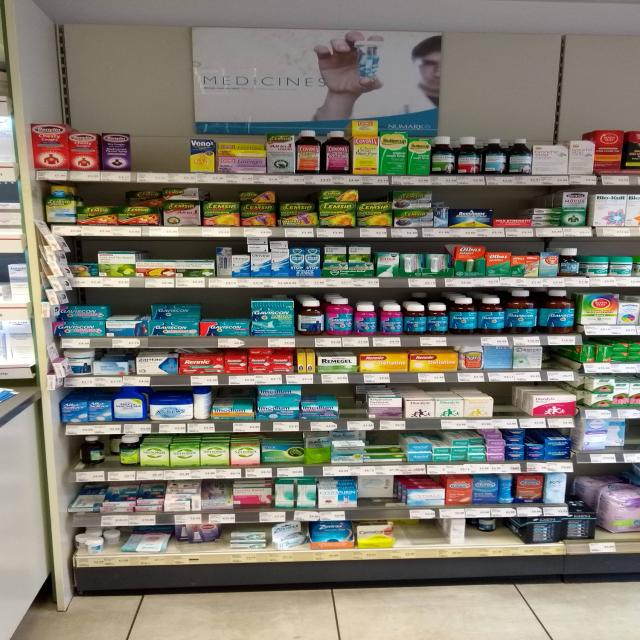void: (137, 127, 186, 182), (498, 387, 532, 429), (544, 348, 580, 382), (346, 388, 368, 430)
